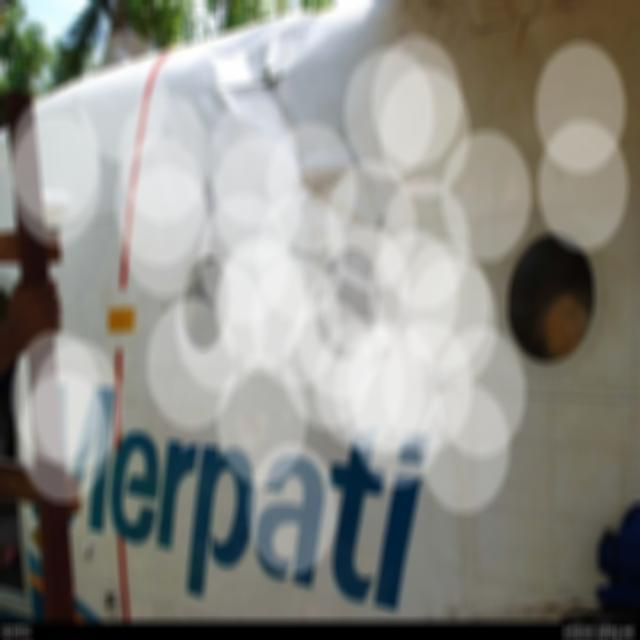crack: (255, 63, 298, 124)
